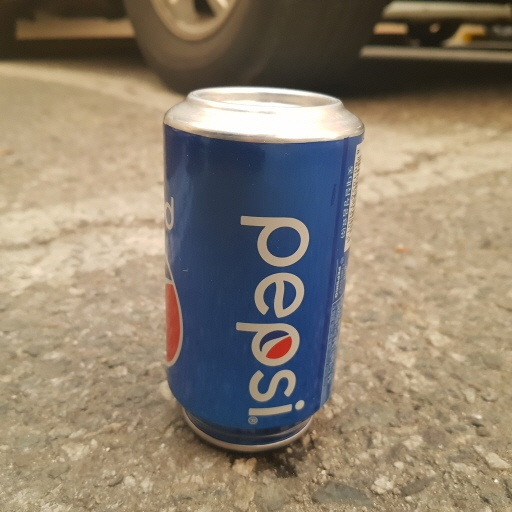Metal_0: (161, 84, 365, 448)
